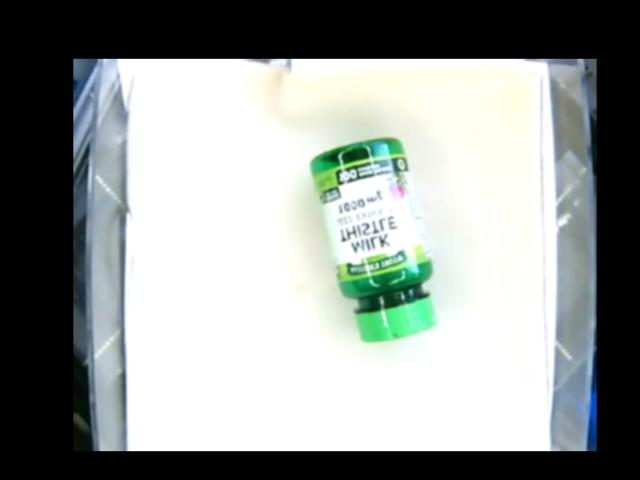Bottle: (313, 137, 437, 340)
